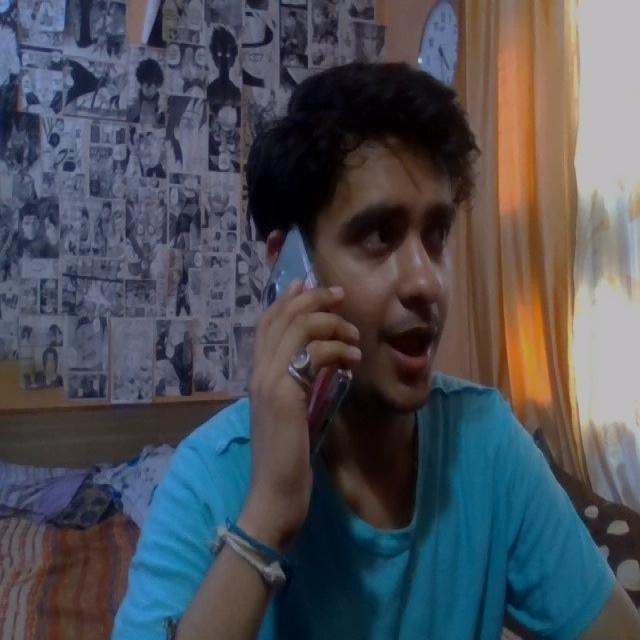oncall: (212, 60, 499, 495)
phone: (242, 231, 360, 460)
